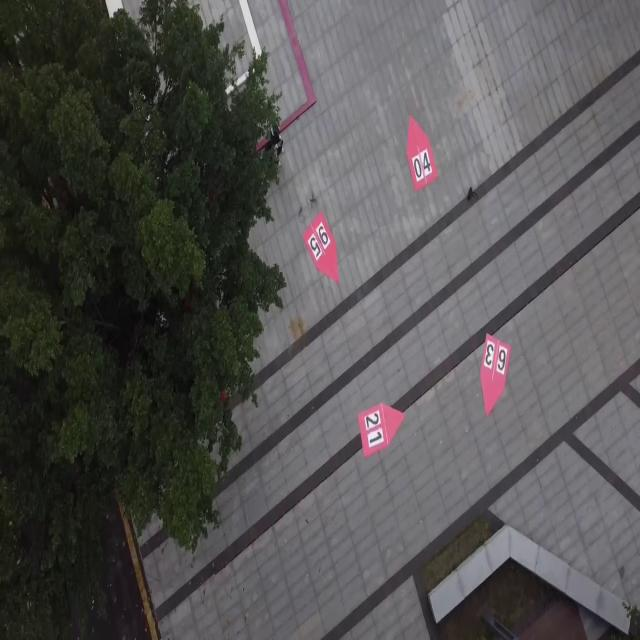-sign-: (302, 210, 338, 285), (479, 332, 510, 417), (406, 114, 438, 194), (358, 401, 402, 458)
